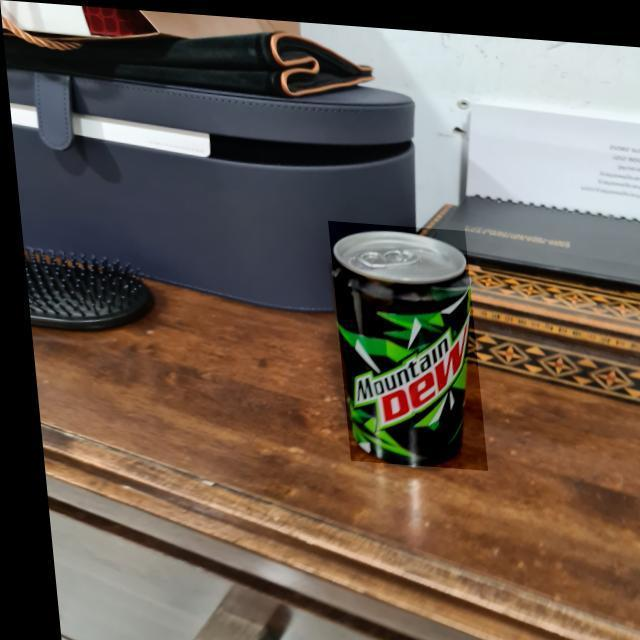trash: (335, 228, 475, 470)
